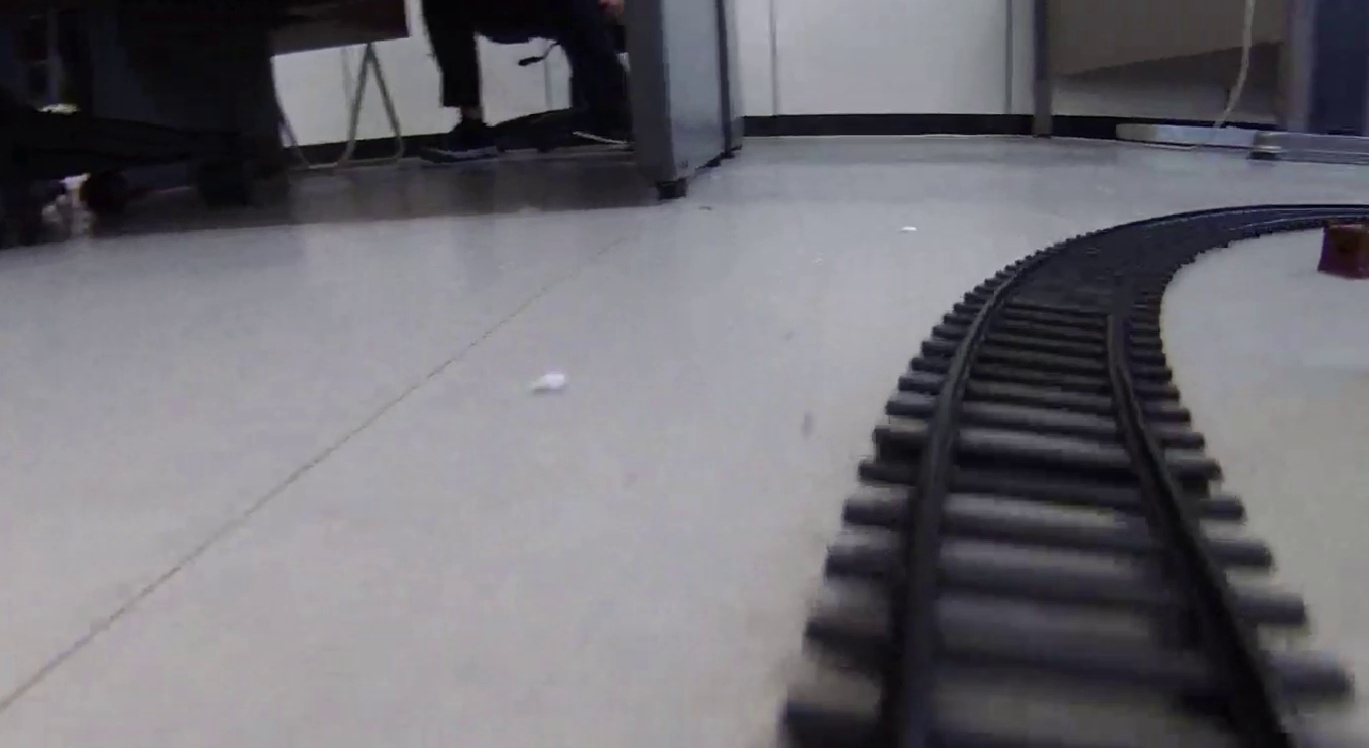box: (1320, 225, 1369, 272)
